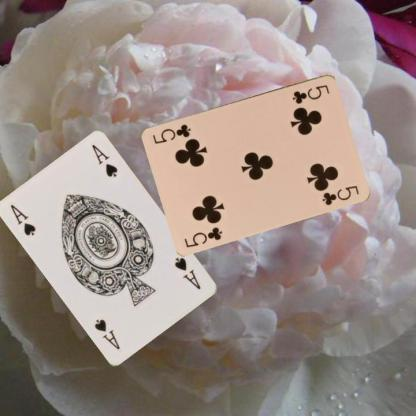5c: (182, 224, 224, 248), (290, 82, 331, 105)
As: (172, 255, 202, 291), (8, 202, 38, 237)
